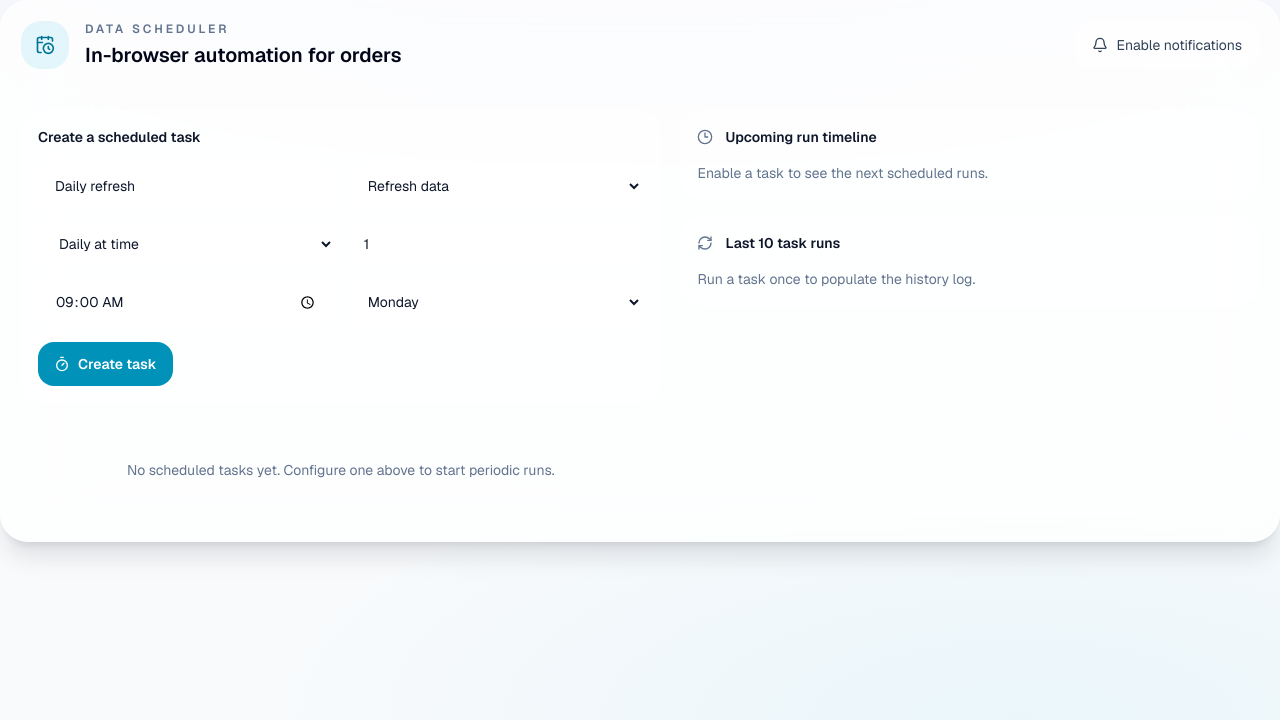
Test: DataScheduler › surfaces unsupported browser notifications
Click the button "Enable notifications" at (1167, 45), box [1076,22,1259,68]
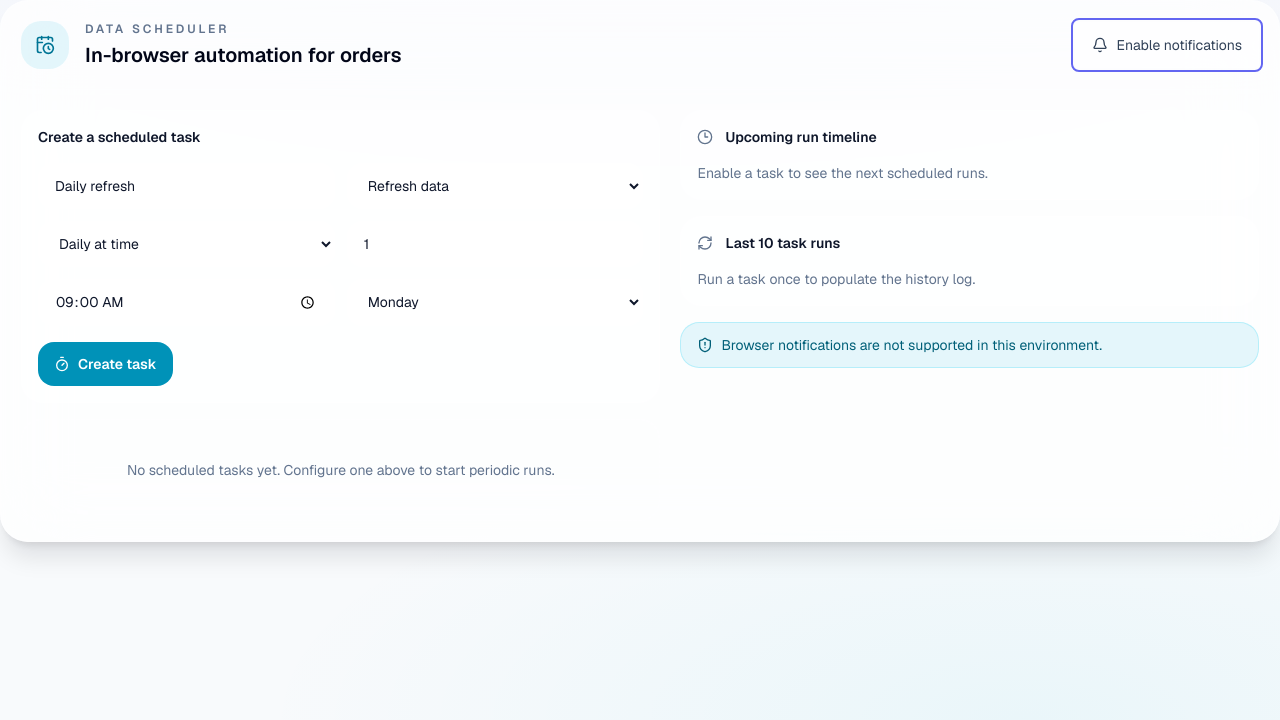
expect the text "Browser notifications are not supported in this environment." is shown: met, box [721,335,1102,355]
